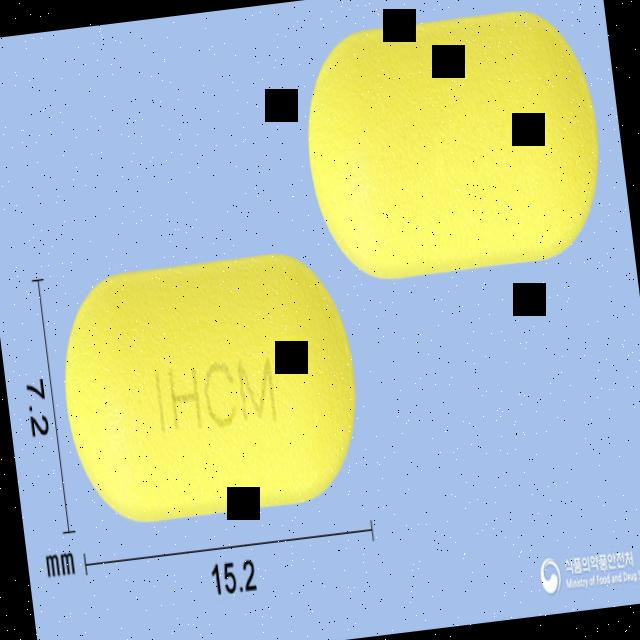Claritin: (51, 245, 370, 532)
